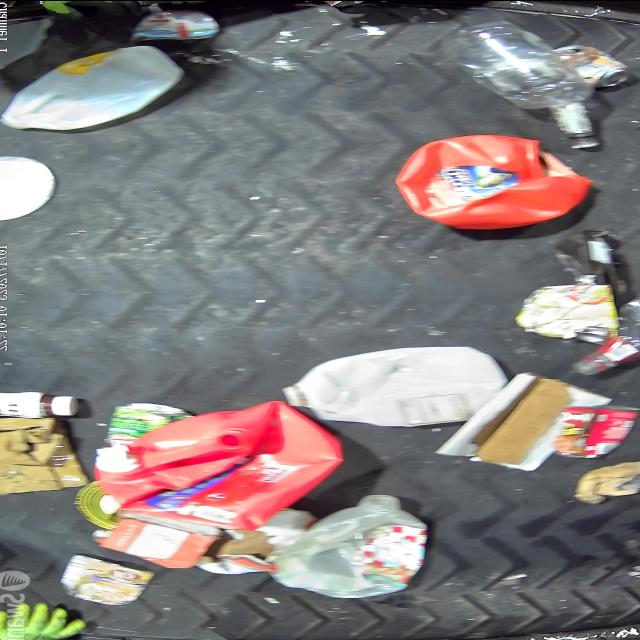can: (60, 554, 154, 606), (552, 406, 638, 459), (549, 44, 633, 90), (130, 10, 223, 42)
milk_jug: (282, 346, 508, 428), (0, 46, 184, 130)
non_white_jug: (96, 400, 342, 530), (396, 134, 591, 228), (275, 494, 427, 598)
plastic_bottle: (457, 19, 598, 148), (570, 286, 640, 374)
